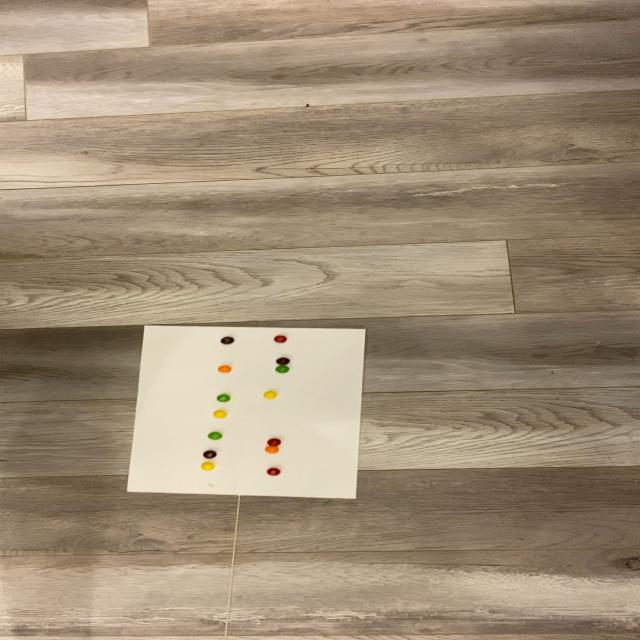smartie: (216, 394, 231, 403), (203, 451, 217, 460), (213, 410, 227, 419), (267, 438, 282, 446), (209, 432, 224, 440), (274, 366, 289, 374), (267, 467, 280, 476), (220, 336, 234, 344), (276, 357, 290, 365), (218, 365, 232, 373), (263, 390, 277, 398), (200, 463, 214, 471), (265, 446, 280, 453), (273, 336, 287, 343)
